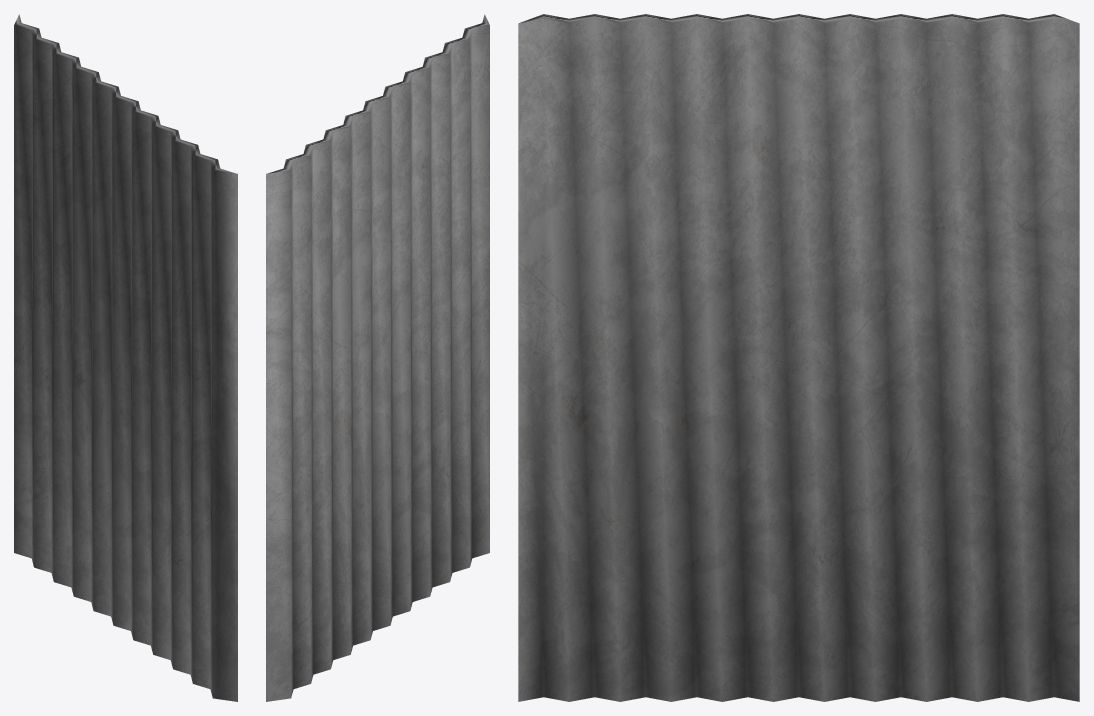
File: metal_scrap.fbx
3 views of the same model, side by side, from view 1: azimuth 30°, elevation 25°; view 2: azimuth 150°, elevation 25°; view 3: azimuth 270°, elevation 25° (orthographic). The views are drawn at different scales.
Visible parts, largest first — view 1: Blacha; view 2: Blacha; view 3: Blacha.
Boxes of the visible parts, left/top/right/bottom form: Blacha: left=14, top=14, right=237, bottom=701; Blacha: left=266, top=14, right=489, bottom=701; Blacha: left=518, top=14, right=1079, bottom=701.
Bounding box in the file's own units: 6 × 200 × 150.
